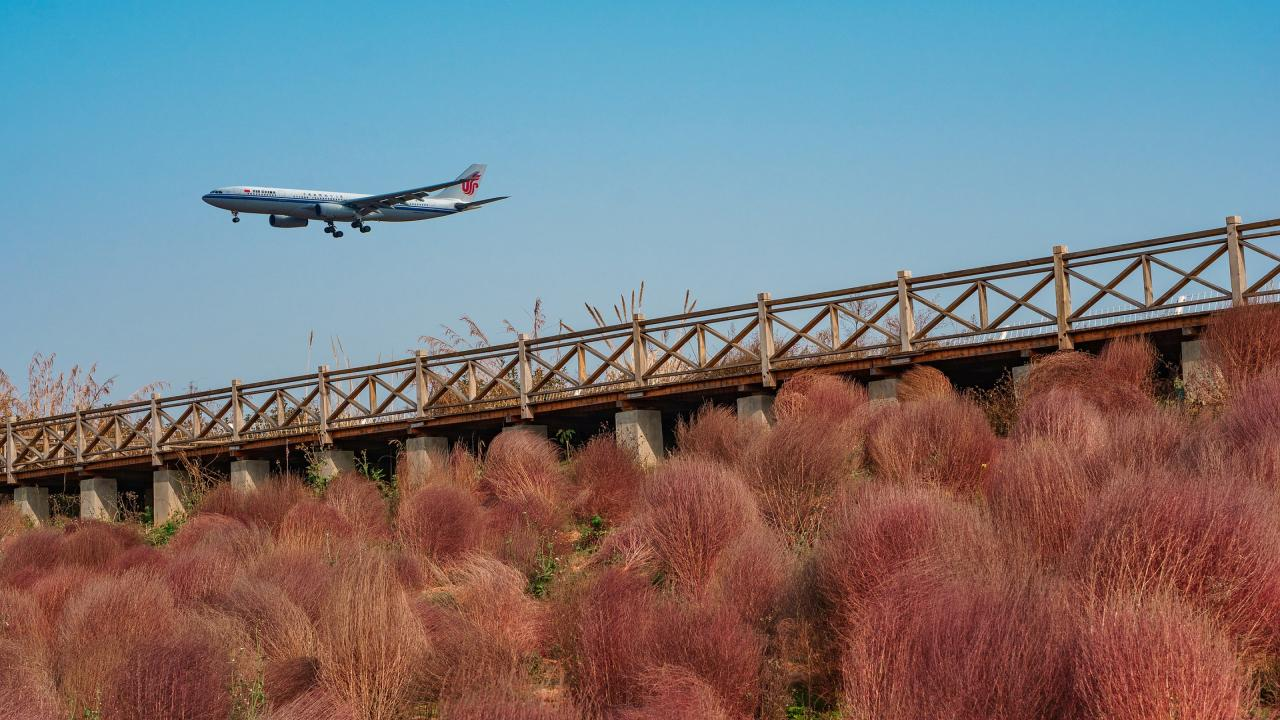Airplane: (184, 153, 523, 250)
